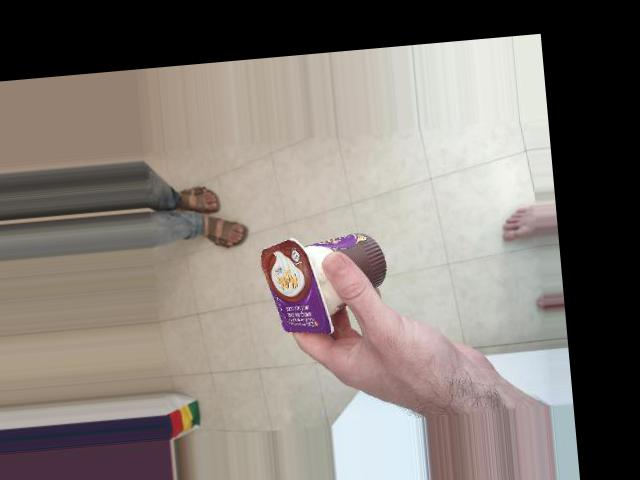milky: (247, 188, 344, 322)
